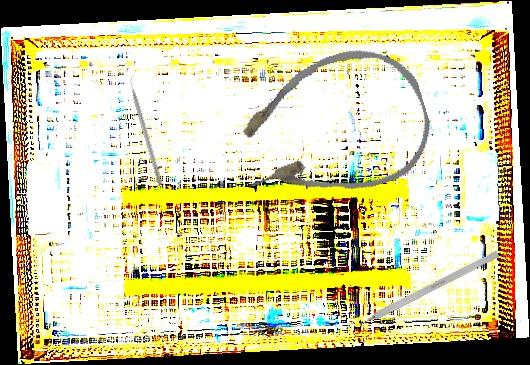Cannula: (220, 34, 443, 221)
Chopper: (126, 71, 169, 186)
Hook Surgical: (345, 250, 500, 334)
